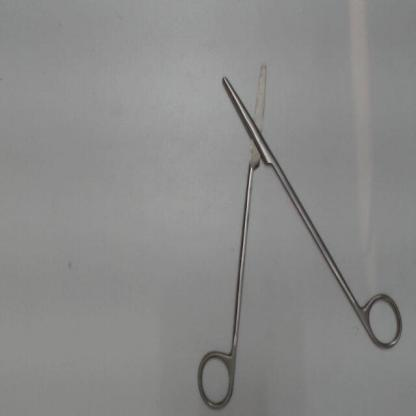9 Metzenbaum Scissors: (190, 54, 408, 414)
